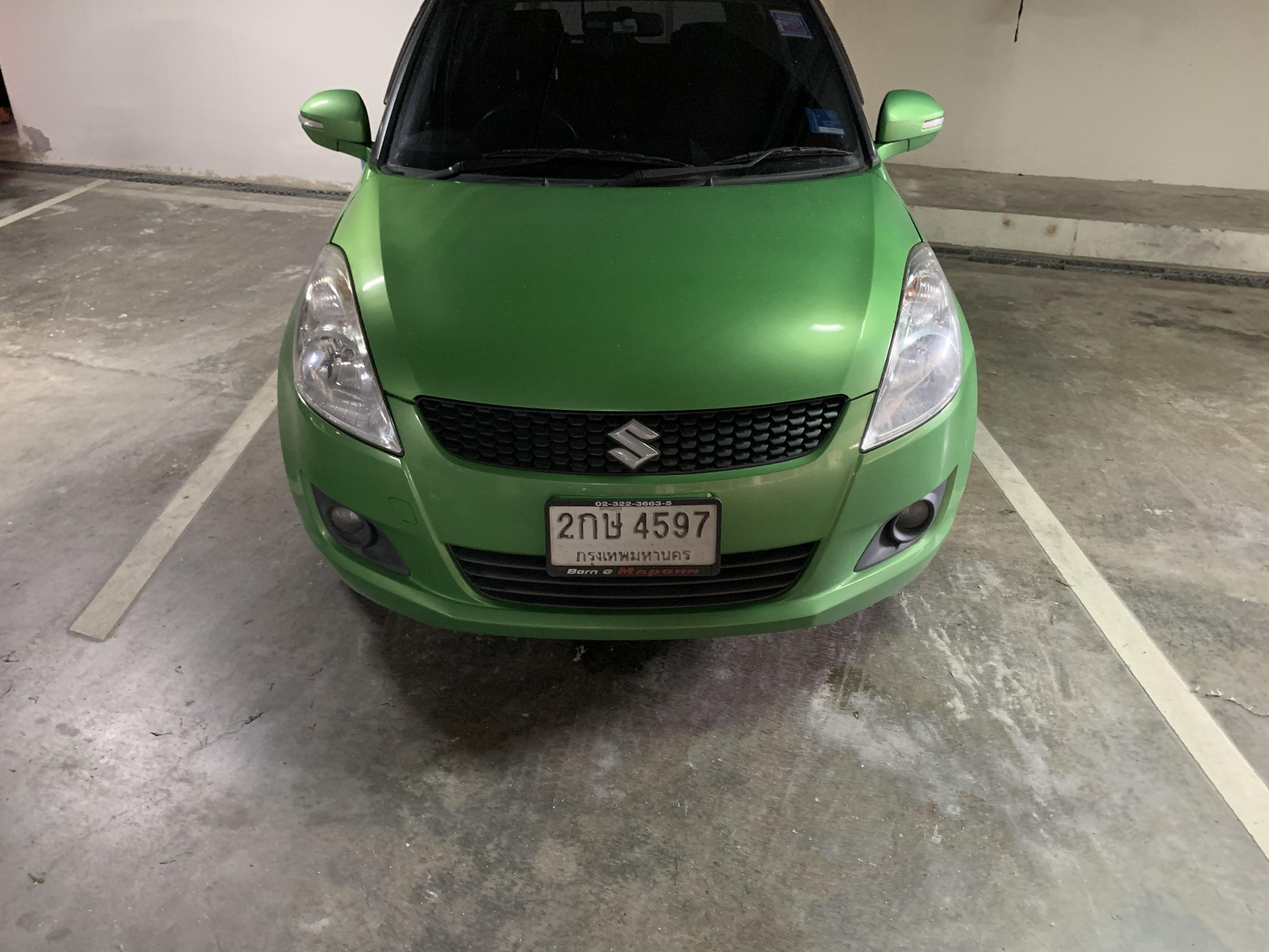license-plate: (543, 493, 723, 582)
